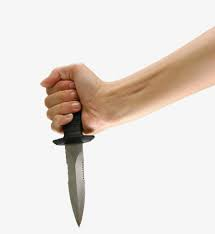knife: (47, 62, 97, 231)
